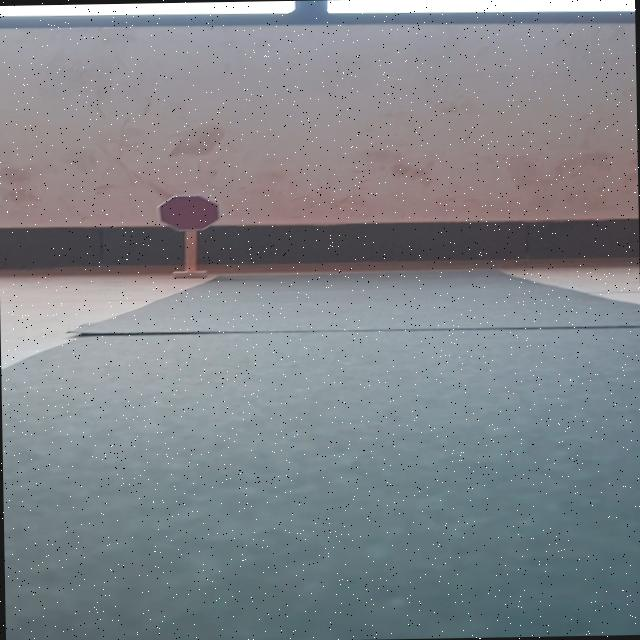Stop: (156, 194, 222, 232)
